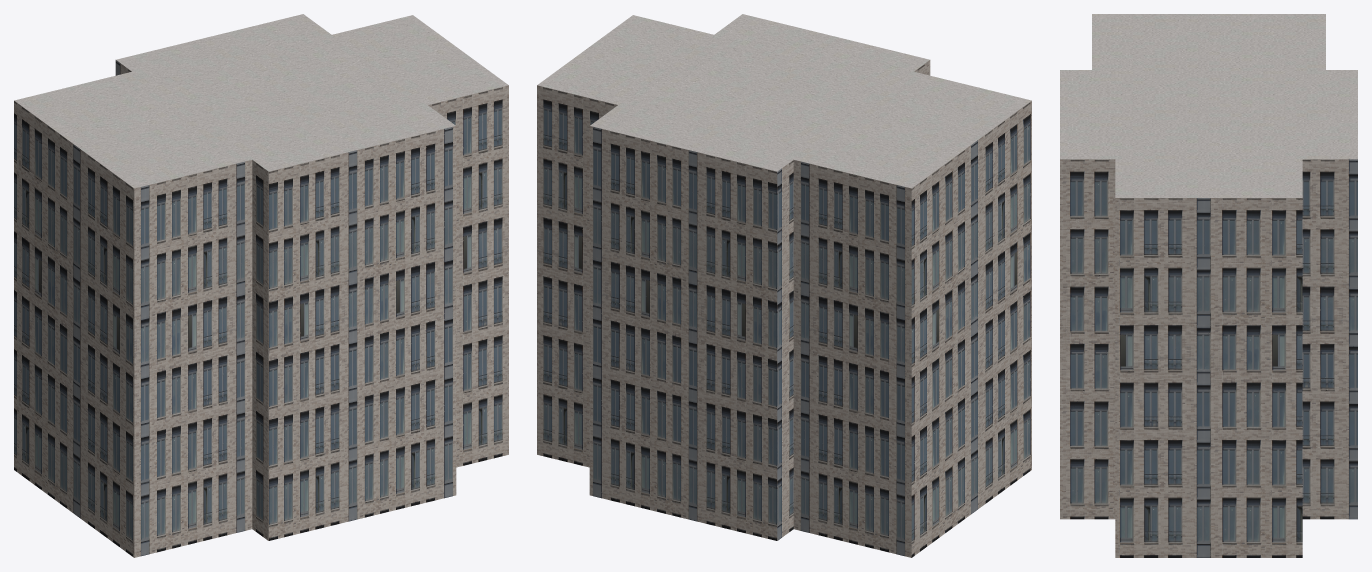
File: building_011.glb
The picture shows the model from 3 angles, left to right: view 1: azimuth 30°, elevation 25°; view 2: azimuth 150°, elevation 25°; view 3: azimuth 270°, elevation 25°; orthographic projection. The views are drawn at different scales.
Visible parts, largest first — view 1: building_011; view 2: building_011; view 3: building_011.
Boxes of the visible parts, bbox=[...] form: building_011: bbox=[14, 14, 508, 557]; building_011: bbox=[537, 14, 1031, 557]; building_011: bbox=[1060, 14, 1357, 557].
Size of the model in its own units: 1753 by 1600 by 1200.
Materials: 2 (2 with a texture image).
